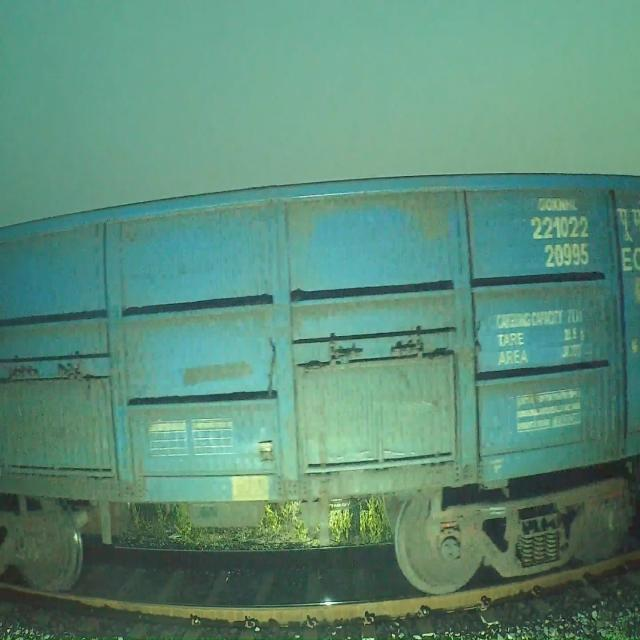WAgon-uic: (0, 172, 637, 593)
uic: (525, 211, 596, 271)
